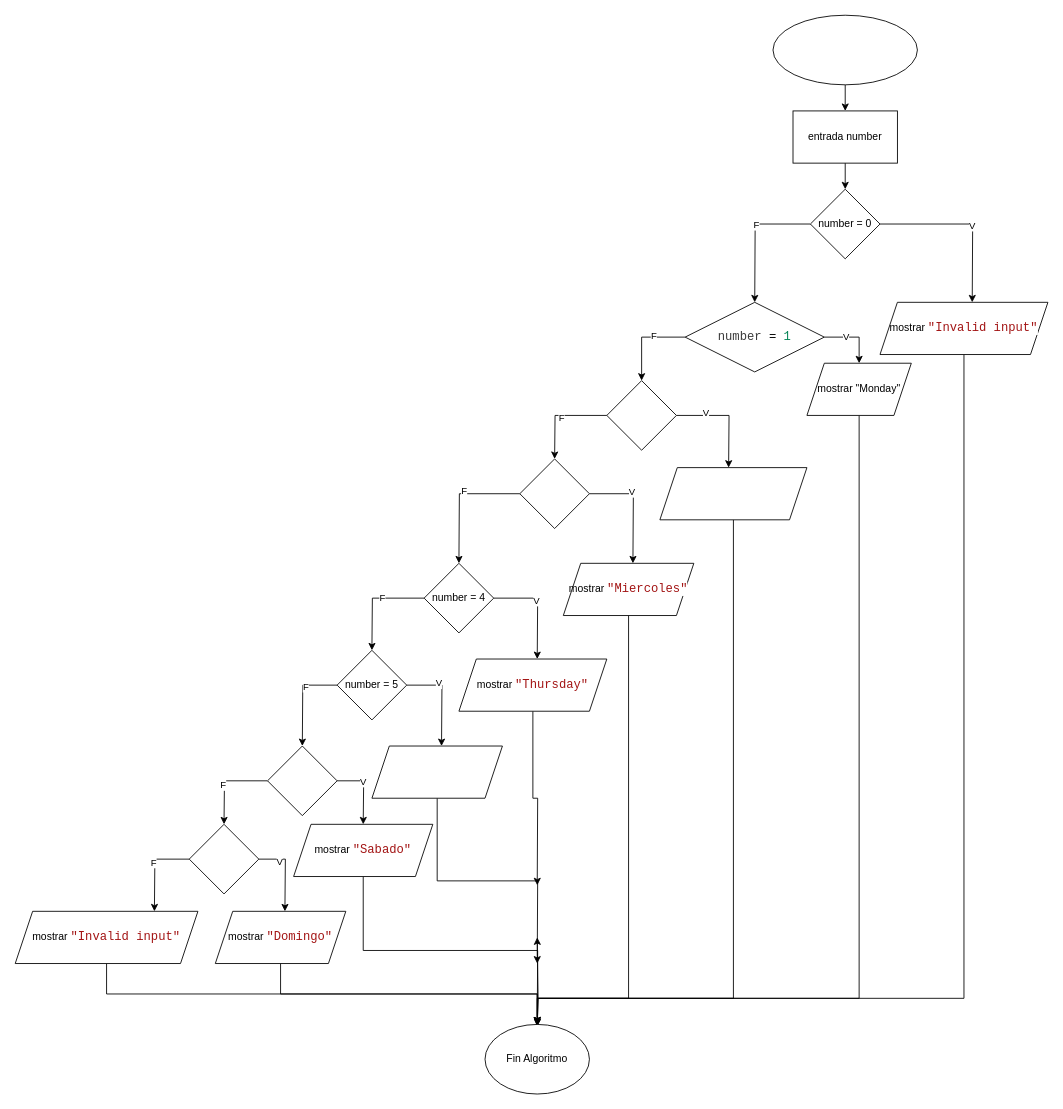
Some shapes in this 1063 by 1109 pixel diagram are drawn without their labels. Here are the shapes that lost their labels. From the top down, the box of each, then its label:
(772, 14, 917, 85): Algoritmo Practico 1 ejer 6
(606, 380, 676, 450): number = 2
(519, 458, 589, 529): number = 3
(659, 467, 807, 520): mostrar "Martes"
(267, 745, 337, 816): number = 6
(371, 745, 502, 798): mostrar "Viernes"
(188, 823, 259, 894): number = 7
